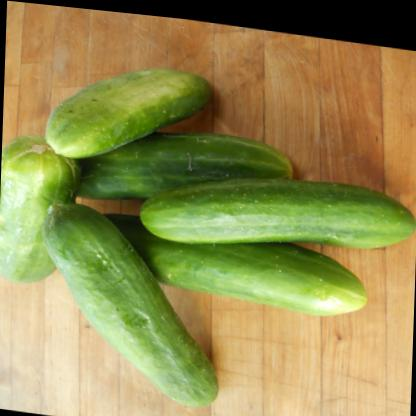cucumber: (29, 195, 238, 409), (132, 147, 414, 270), (36, 45, 216, 176), (0, 124, 84, 301)
